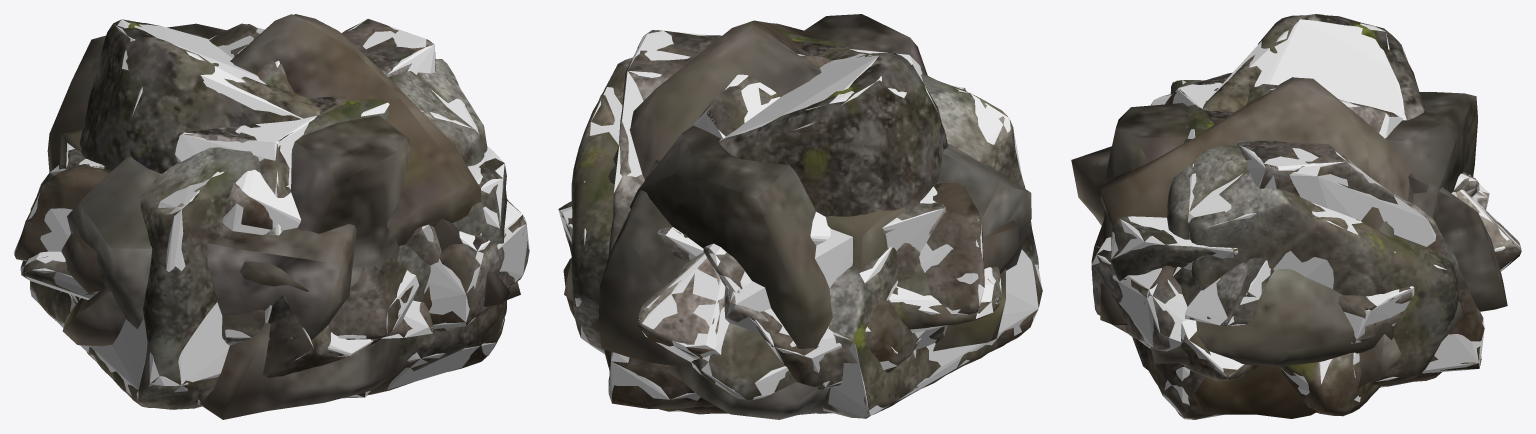
Rendered from rocks.glb.
3 views of the same model, side by side, from view 1: azimuth 30°, elevation 25°; view 2: azimuth 150°, elevation 25°; view 3: azimuth 270°, elevation 25° (orthographic). The views are drawn at different scales.
Visible parts, largest first — view 1: pebble_3, pebble_2, rock_0, rock_6, pebble_5, rock_hull_0, rock_5, rock_hull_6, rock_hull_5, rock_hull_1, rock_3, rock_1 (+13 smaller); view 2: pebble_3, rock_6, rock_0, pebble_2, pebble_0, rock_hull_0, rock_5, rock_8, rock_9, rock_7, rock_hull_1, rock_hull_5 (+14 smaller); view 3: rock_0, pebble_2, pebble_3, pebble_4, rock_hull_6, rock_hull_5, rock_6, rock_5, pebble_0, rock_4, rock_1, rock_hull_1 (+13 smaller).
Boxes of the visible parts, <box> form: pebble_3: <box>47,23,412,419</box>; pebble_2: <box>67,14,481,409</box>; rock_0: <box>30,59,487,409</box>; rock_6: <box>60,19,506,395</box>; pebble_5: <box>62,224,356,346</box>; rock_hull_0: <box>30,88,480,407</box>; rock_5: <box>178,19,435,377</box>; rock_hull_6: <box>60,19,505,389</box>; rock_hull_5: <box>175,20,435,360</box>; rock_hull_1: <box>66,143,529,328</box>; rock_3: <box>328,260,413,339</box>; rock_1: <box>66,149,529,325</box>; pebble_3: <box>629,14,927,348</box>; rock_6: <box>659,47,947,414</box>; rock_0: <box>571,29,1042,418</box>; pebble_2: <box>564,20,1031,419</box>; pebble_0: <box>599,160,692,365</box>; rock_hull_0: <box>575,87,1042,417</box>; rock_5: <box>605,30,925,409</box>; rock_8: <box>558,182,984,314</box>; rock_9: <box>703,248,919,390</box>; rock_7: <box>691,257,944,399</box>; rock_hull_1: <box>724,186,945,335</box>; rock_hull_5: <box>608,30,923,402</box>; rock_0: <box>1167,80,1458,385</box>; pebble_2: <box>1100,77,1411,418</box>; pebble_3: <box>1106,92,1477,219</box>; pebble_4: <box>1151,221,1394,365</box>; rock_hull_6: <box>1157,18,1406,419</box>; rock_hull_5: <box>1172,82,1484,373</box>; rock_6: <box>1132,14,1441,419</box>; rock_5: <box>1165,72,1484,373</box>; pebble_0: <box>1408,175,1507,311</box>; rock_4: <box>1151,84,1398,416</box>; rock_1: <box>1091,191,1489,349</box>; rock_hull_1: <box>1092,174,1489,351</box>.
Size of what is drawn, in the model's own units: 1.94 by 1.41 by 1.94.
1 material, 1 textured.
